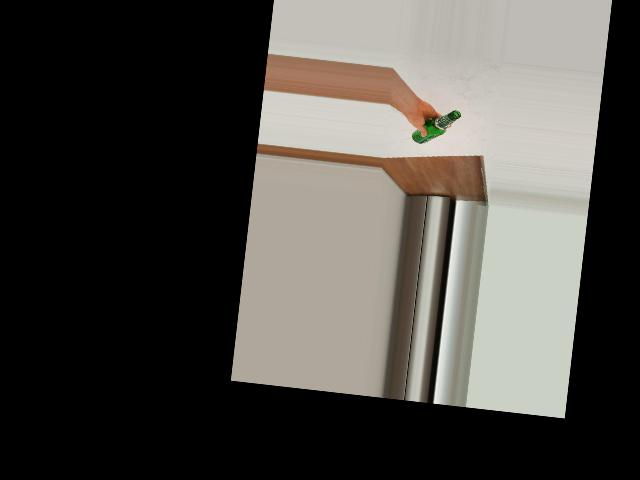beer: (411, 105, 461, 147)
